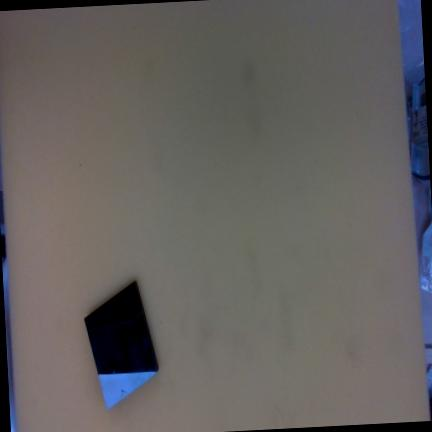tile: (78, 280, 165, 412)
